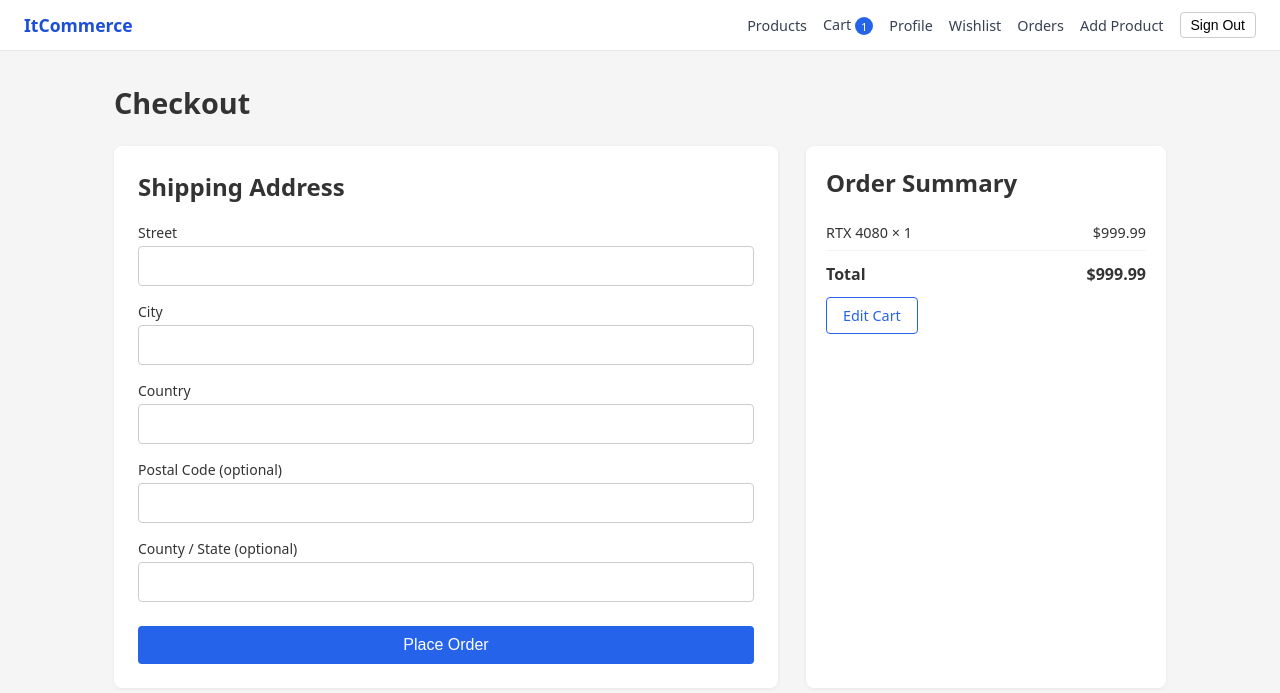
Scenario: Checkout — address validation › shows errors when required address fields are empty
This screenshot has width=1280, height=693.
Click the button "Place Order" at {"x": 446, "y": 645}, box [138,626,754,664]
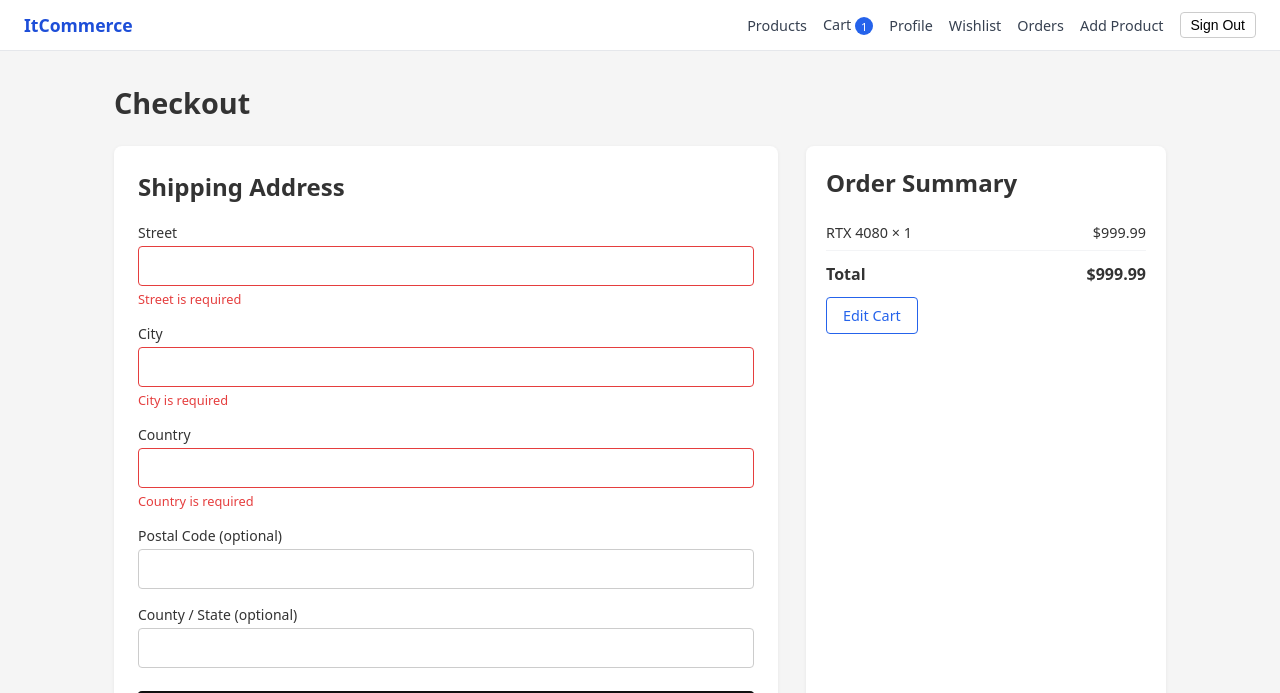
Check: the text "Street is required" is shown, box [138,290,241,308]
Check: the text "City is required" is shown, box [138,391,228,409]
Check: the text "Country is required" is shown, box [138,492,254,510]
